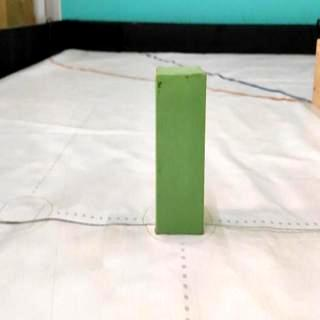greenbox: (156, 68, 205, 237)
